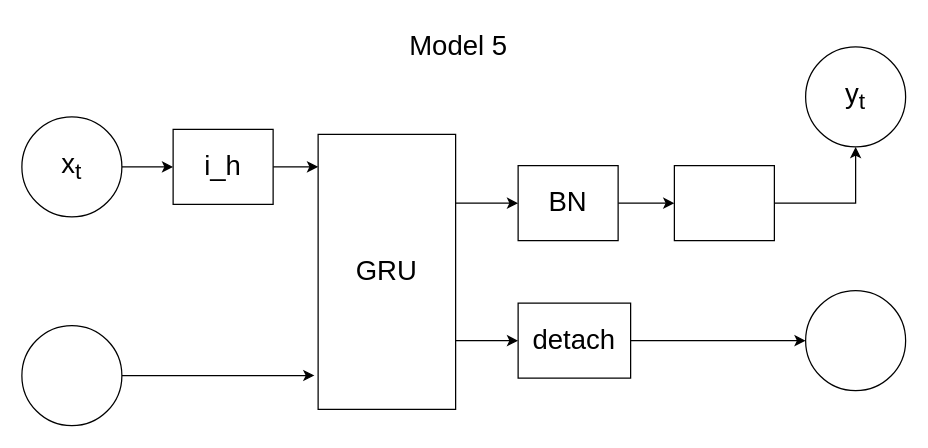
Some shapes in this 928 by 448 pixel diagram are drawn without their labels. The shapes that lost their labels are listed below. From the top down, each one's centre as x and y in pixels, then its label:
At pixel 723 202: "h_o".
At pixel 855 340: "h t+1".
At pixel 71 375: "h t".
